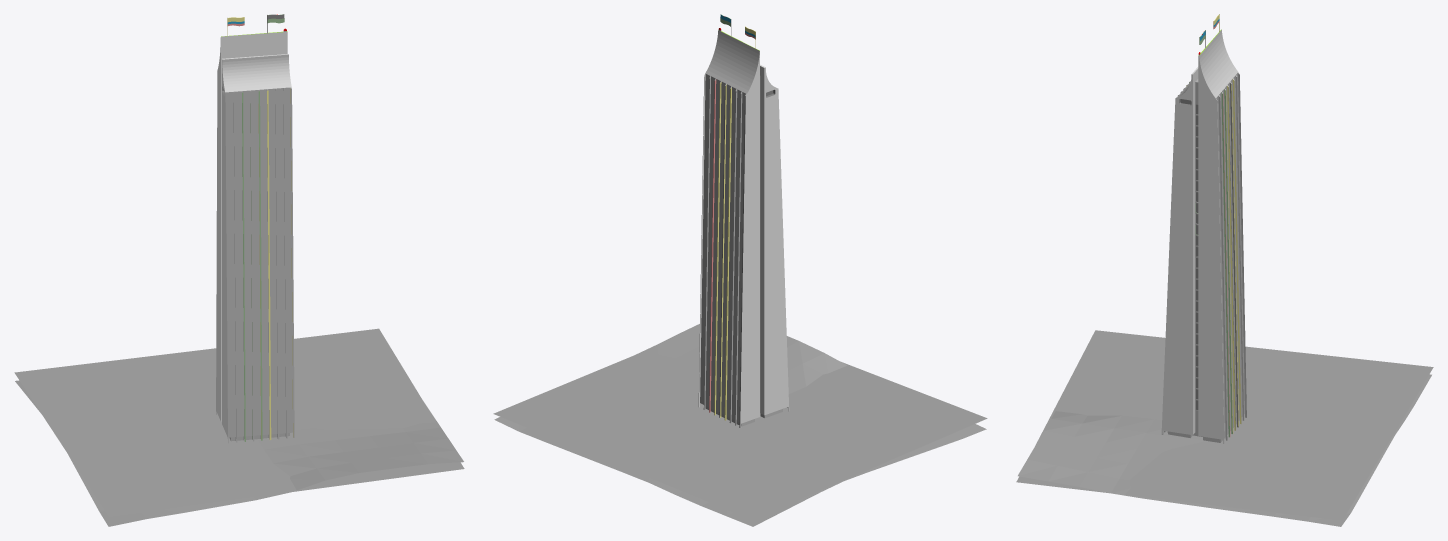
File: coltejer.glb
3 views of the same model, side by side, from view 1: azimuth 30°, elevation 25°; view 2: azimuth 150°, elevation 25°; view 3: azimuth 270°, elevation 25° (orthographic). The views are drawn at different scales.
Parts seen in each view (by area): view 1: imagetostl_mesh200, imagetostl_mesh568, imagetostl_mesh566, imagetostl_mesh598, imagetostl_mesh569, imagetostl_mesh600, imagetostl_mesh601, imagetostl_mesh567, imagetostl_mesh570, imagetostl_mesh280, imagetostl_mesh287, imagetostl_mesh640 (+8 smaller); view 2: imagetostl_mesh200, imagetostl_mesh287, imagetostl_mesh640, imagetostl_mesh281, imagetostl_mesh652, imagetostl_mesh653, imagetostl_mesh605, imagetostl_mesh604, imagetostl_mesh606, imagetostl_mesh636, imagetostl_mesh993, imagetostl_mesh994 (+8 smaller); view 3: imagetostl_mesh200, imagetostl_mesh234, imagetostl_mesh202, imagetostl_mesh281, imagetostl_mesh639, imagetostl_mesh475, imagetostl_mesh533, imagetostl_mesh610, imagetostl_mesh633, imagetostl_mesh995, imagetostl_mesh668, imagetostl_mesh518 (+8 smaller).
Part boxes in pixels (<box>): imagetostl_mesh200: <box>14,328,464,516</box>; imagetostl_mesh568: <box>226,92,235,437</box>; imagetostl_mesh566: <box>234,91,244,436</box>; imagetostl_mesh598: <box>243,90,252,436</box>; imagetostl_mesh569: <box>251,90,260,435</box>; imagetostl_mesh600: <box>260,89,269,434</box>; imagetostl_mesh601: <box>276,88,285,433</box>; imagetostl_mesh567: <box>268,88,277,434</box>; imagetostl_mesh570: <box>285,87,292,432</box>; imagetostl_mesh280: <box>221,32,287,421</box>; imagetostl_mesh287: <box>222,59,227,438</box>; imagetostl_mesh640: <box>216,37,220,420</box>; imagetostl_mesh200: <box>493,349,987,519</box>; imagetostl_mesh287: <box>764,67,789,415</box>; imagetostl_mesh640: <box>740,51,759,427</box>; imagetostl_mesh281: <box>760,66,764,414</box>; imagetostl_mesh652: <box>700,74,710,404</box>; imagetostl_mesh653: <box>710,79,720,409</box>; imagetostl_mesh605: <box>705,76,715,407</box>; imagetostl_mesh604: <box>716,82,725,412</box>; imagetostl_mesh606: <box>721,84,730,414</box>; imagetostl_mesh636: <box>731,89,741,420</box>; imagetostl_mesh993: <box>726,87,736,417</box>; imagetostl_mesh994: <box>736,92,745,422</box>; imagetostl_mesh200: <box>1016,330,1433,520</box>; imagetostl_mesh234: <box>1161,74,1192,434</box>; imagetostl_mesh202: <box>1198,56,1224,443</box>; imagetostl_mesh281: <box>1193,68,1198,434</box>; imagetostl_mesh639: <box>1218,96,1227,440</box>; imagetostl_mesh475: <box>1227,85,1235,430</box>; imagetostl_mesh533: <box>1221,92,1229,437</box>; imagetostl_mesh610: <box>1235,76,1243,420</box>; imagetostl_mesh633: <box>1232,79,1241,423</box>; imagetostl_mesh995: <box>1238,73,1246,417</box>; imagetostl_mesh668: <box>1230,82,1238,427</box>; imagetostl_mesh518: <box>1224,89,1232,433</box>.
Bounding box in the file's own units: 7668 × 7778 × 7105.
